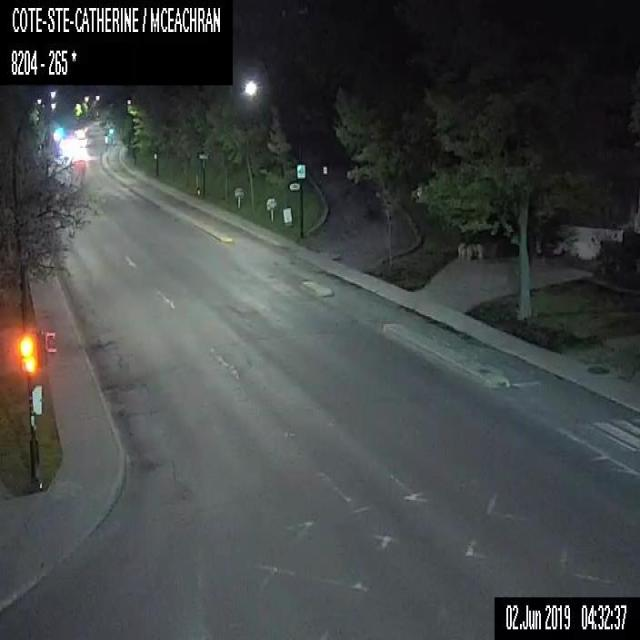vehicle: (52, 124, 87, 163)
